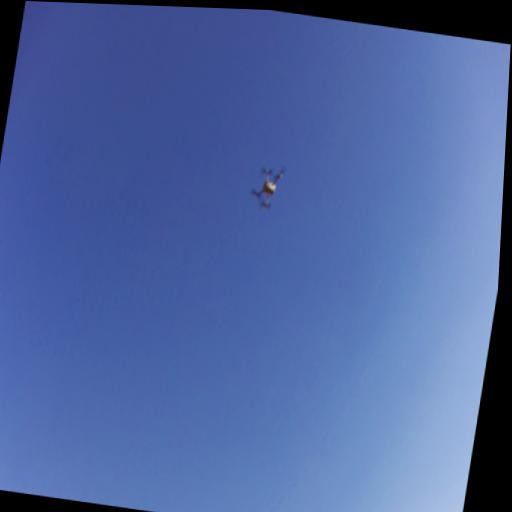drones: (245, 159, 288, 218)
